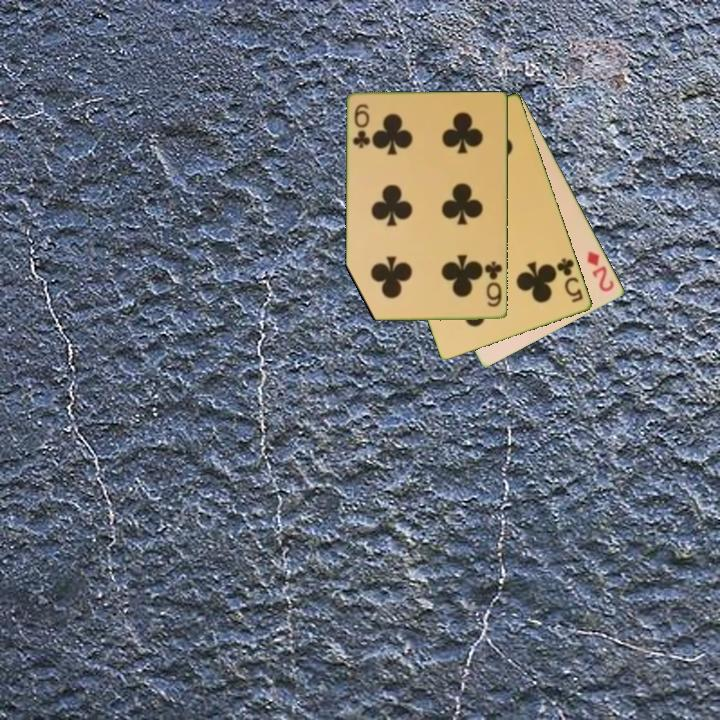2d: (583, 248, 617, 295)
5c: (553, 254, 586, 306)
6c: (482, 258, 505, 310), (349, 101, 372, 151)
